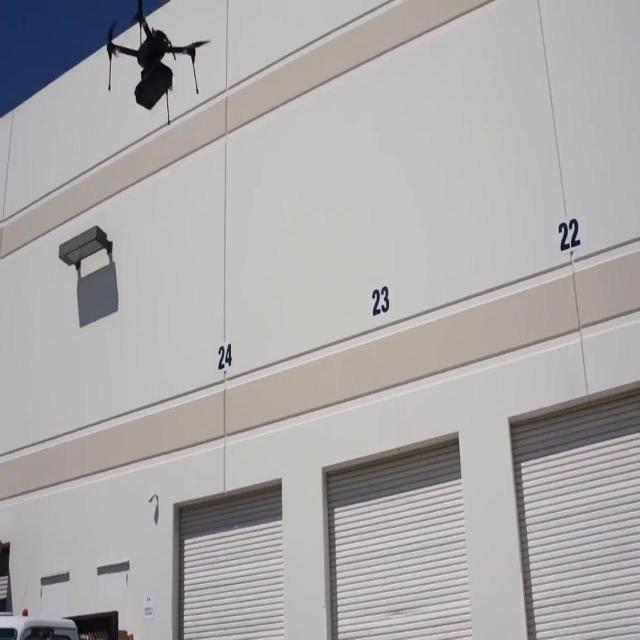drone: (105, 3, 202, 125)
